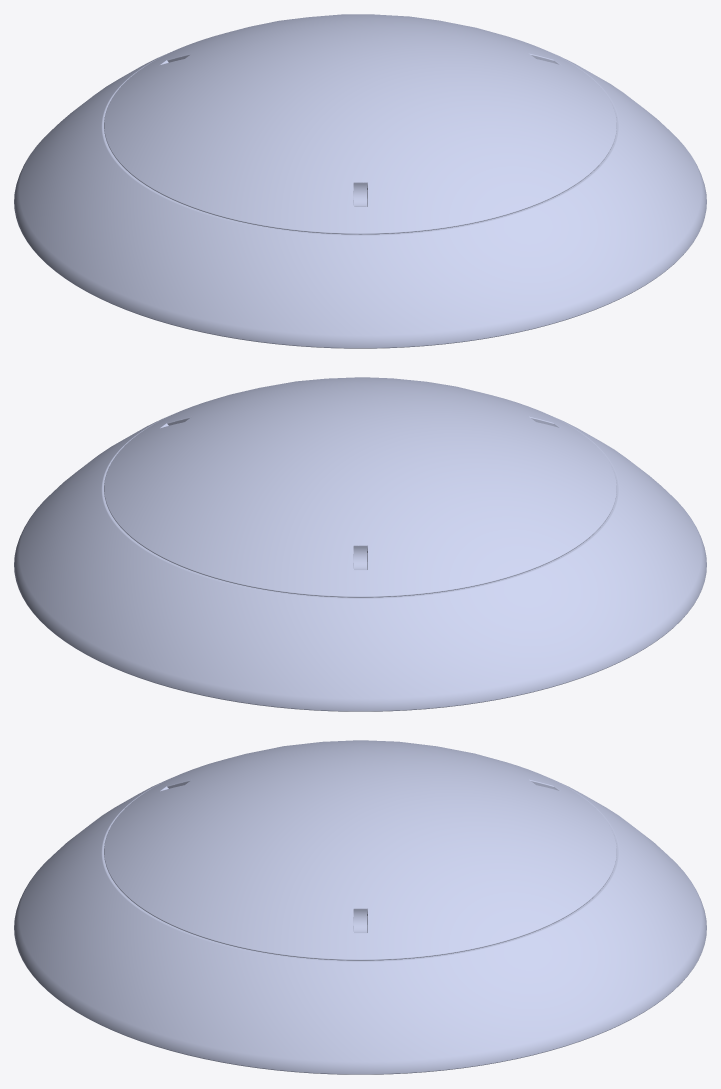
File: parking-sensor.glb
The picture shows the model from 3 angles, top to bottom: view 1: azimuth 30°, elevation 25°; view 2: azimuth 150°, elevation 25°; view 3: azimuth 270°, elevation 25°; orthographic projection.
Parts seen in each view (by area): view 1: 2026-07-08_Base_0G, 2026-07-08_Lid_0G; view 2: 2026-07-08_Base_0G, 2026-07-08_Lid_0G; view 3: 2026-07-08_Base_0G, 2026-07-08_Lid_0G.
Boxes of the visible parts, x1,y1,x2,y2 form: 2026-07-08_Base_0G: [14, 49, 706, 348]; 2026-07-08_Lid_0G: [104, 14, 616, 234]; 2026-07-08_Base_0G: [14, 413, 706, 711]; 2026-07-08_Lid_0G: [104, 377, 616, 597]; 2026-07-08_Base_0G: [14, 776, 706, 1074]; 2026-07-08_Lid_0G: [104, 740, 616, 960].
Bounding box in the file's own units: 0.1688 × 0.0382 × 0.1689.
